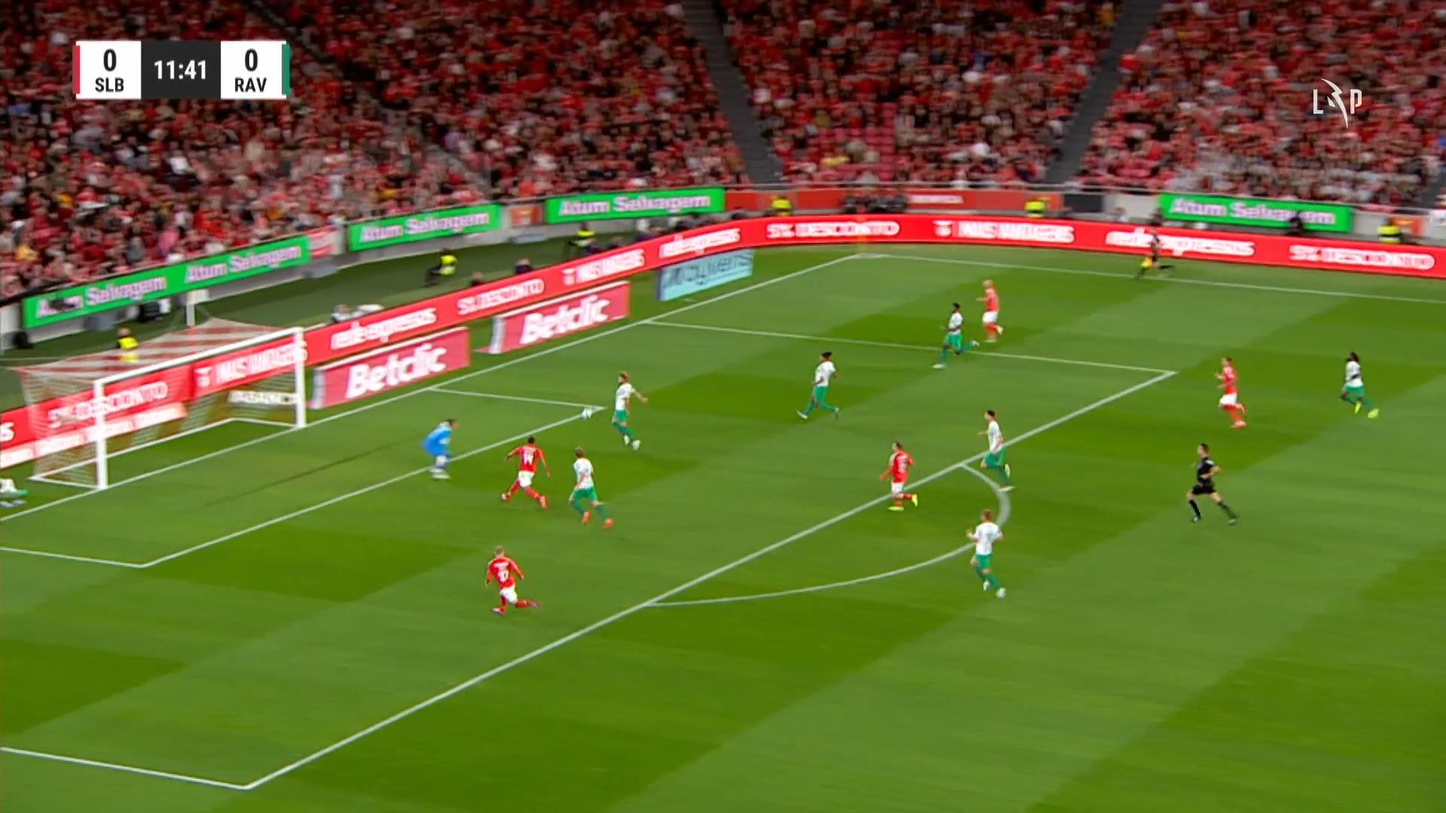ball: (581, 406, 591, 419)
goalkeeper: (422, 417, 459, 479)
player: (484, 544, 539, 615), (499, 435, 551, 509), (567, 446, 613, 528), (965, 507, 1006, 598), (795, 350, 840, 421), (609, 370, 648, 450), (978, 409, 1014, 490), (879, 440, 919, 510), (1338, 350, 1378, 418), (1214, 355, 1247, 428), (932, 302, 964, 368), (975, 278, 1003, 343)
referee: (1185, 441, 1238, 525), (1133, 229, 1174, 280)
